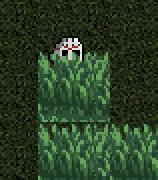Jason: (48, 34, 84, 72)
Slow: (37, 52, 111, 122), (37, 123, 110, 180), (112, 124, 157, 180)
